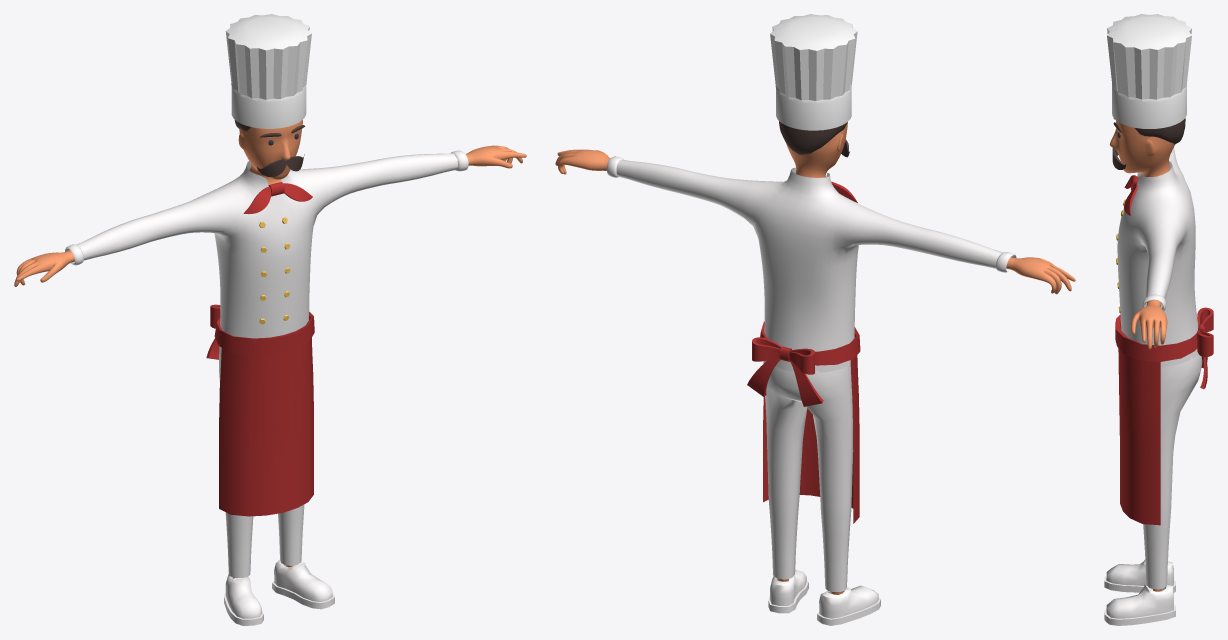
File: player.fbx
The picture shows the model from 3 angles, left to right: view 1: azimuth 30°, elevation 25°; view 2: azimuth 150°, elevation 25°; view 3: azimuth 270°, elevation 25°; orthographic projection.
Visible parts, largest first — view 1: shirt, apron, chef hat, body, shoes chef, trousers, tie; view 2: shirt, trousers, chef hat, body, apron, shoes chef, bow; view 3: shirt, chef hat, apron, trousers, body, shoes chef, bow, tie.
Part boxes in pixels (<box>): shirt: <box>65,150,468,350</box>; apron: <box>214,311,314,516</box>; chef hat: <box>225,14,311,128</box>; body: <box>14,120,526,578</box>; shoes chef: <box>224,559,334,625</box>; trousers: <box>219,347,304,578</box>; tie: <box>243,182,312,214</box>; shirt: <box>607,156,1016,372</box>; trousers: <box>763,360,853,591</box>; chef hat: <box>770,14,857,130</box>; body: <box>555,121,1075,594</box>; apron: <box>760,321,860,523</box>; shoes chef: <box>768,569,880,625</box>; bow: <box>747,337,823,406</box>; shirt: <box>1117,147,1198,367</box>; chef hat: <box>1107,14,1191,128</box>; apron: <box>1115,315,1198,525</box>; trousers: <box>1143,354,1202,589</box>; body: <box>1109,118,1185,591</box>; shoes chef: <box>1104,559,1175,625</box>; bow: <box>1197,307,1213,389</box>; tie: <box>1124,175,1138,215</box>.
Bounding box in the file's own units: 995 × 1067 × 184.
